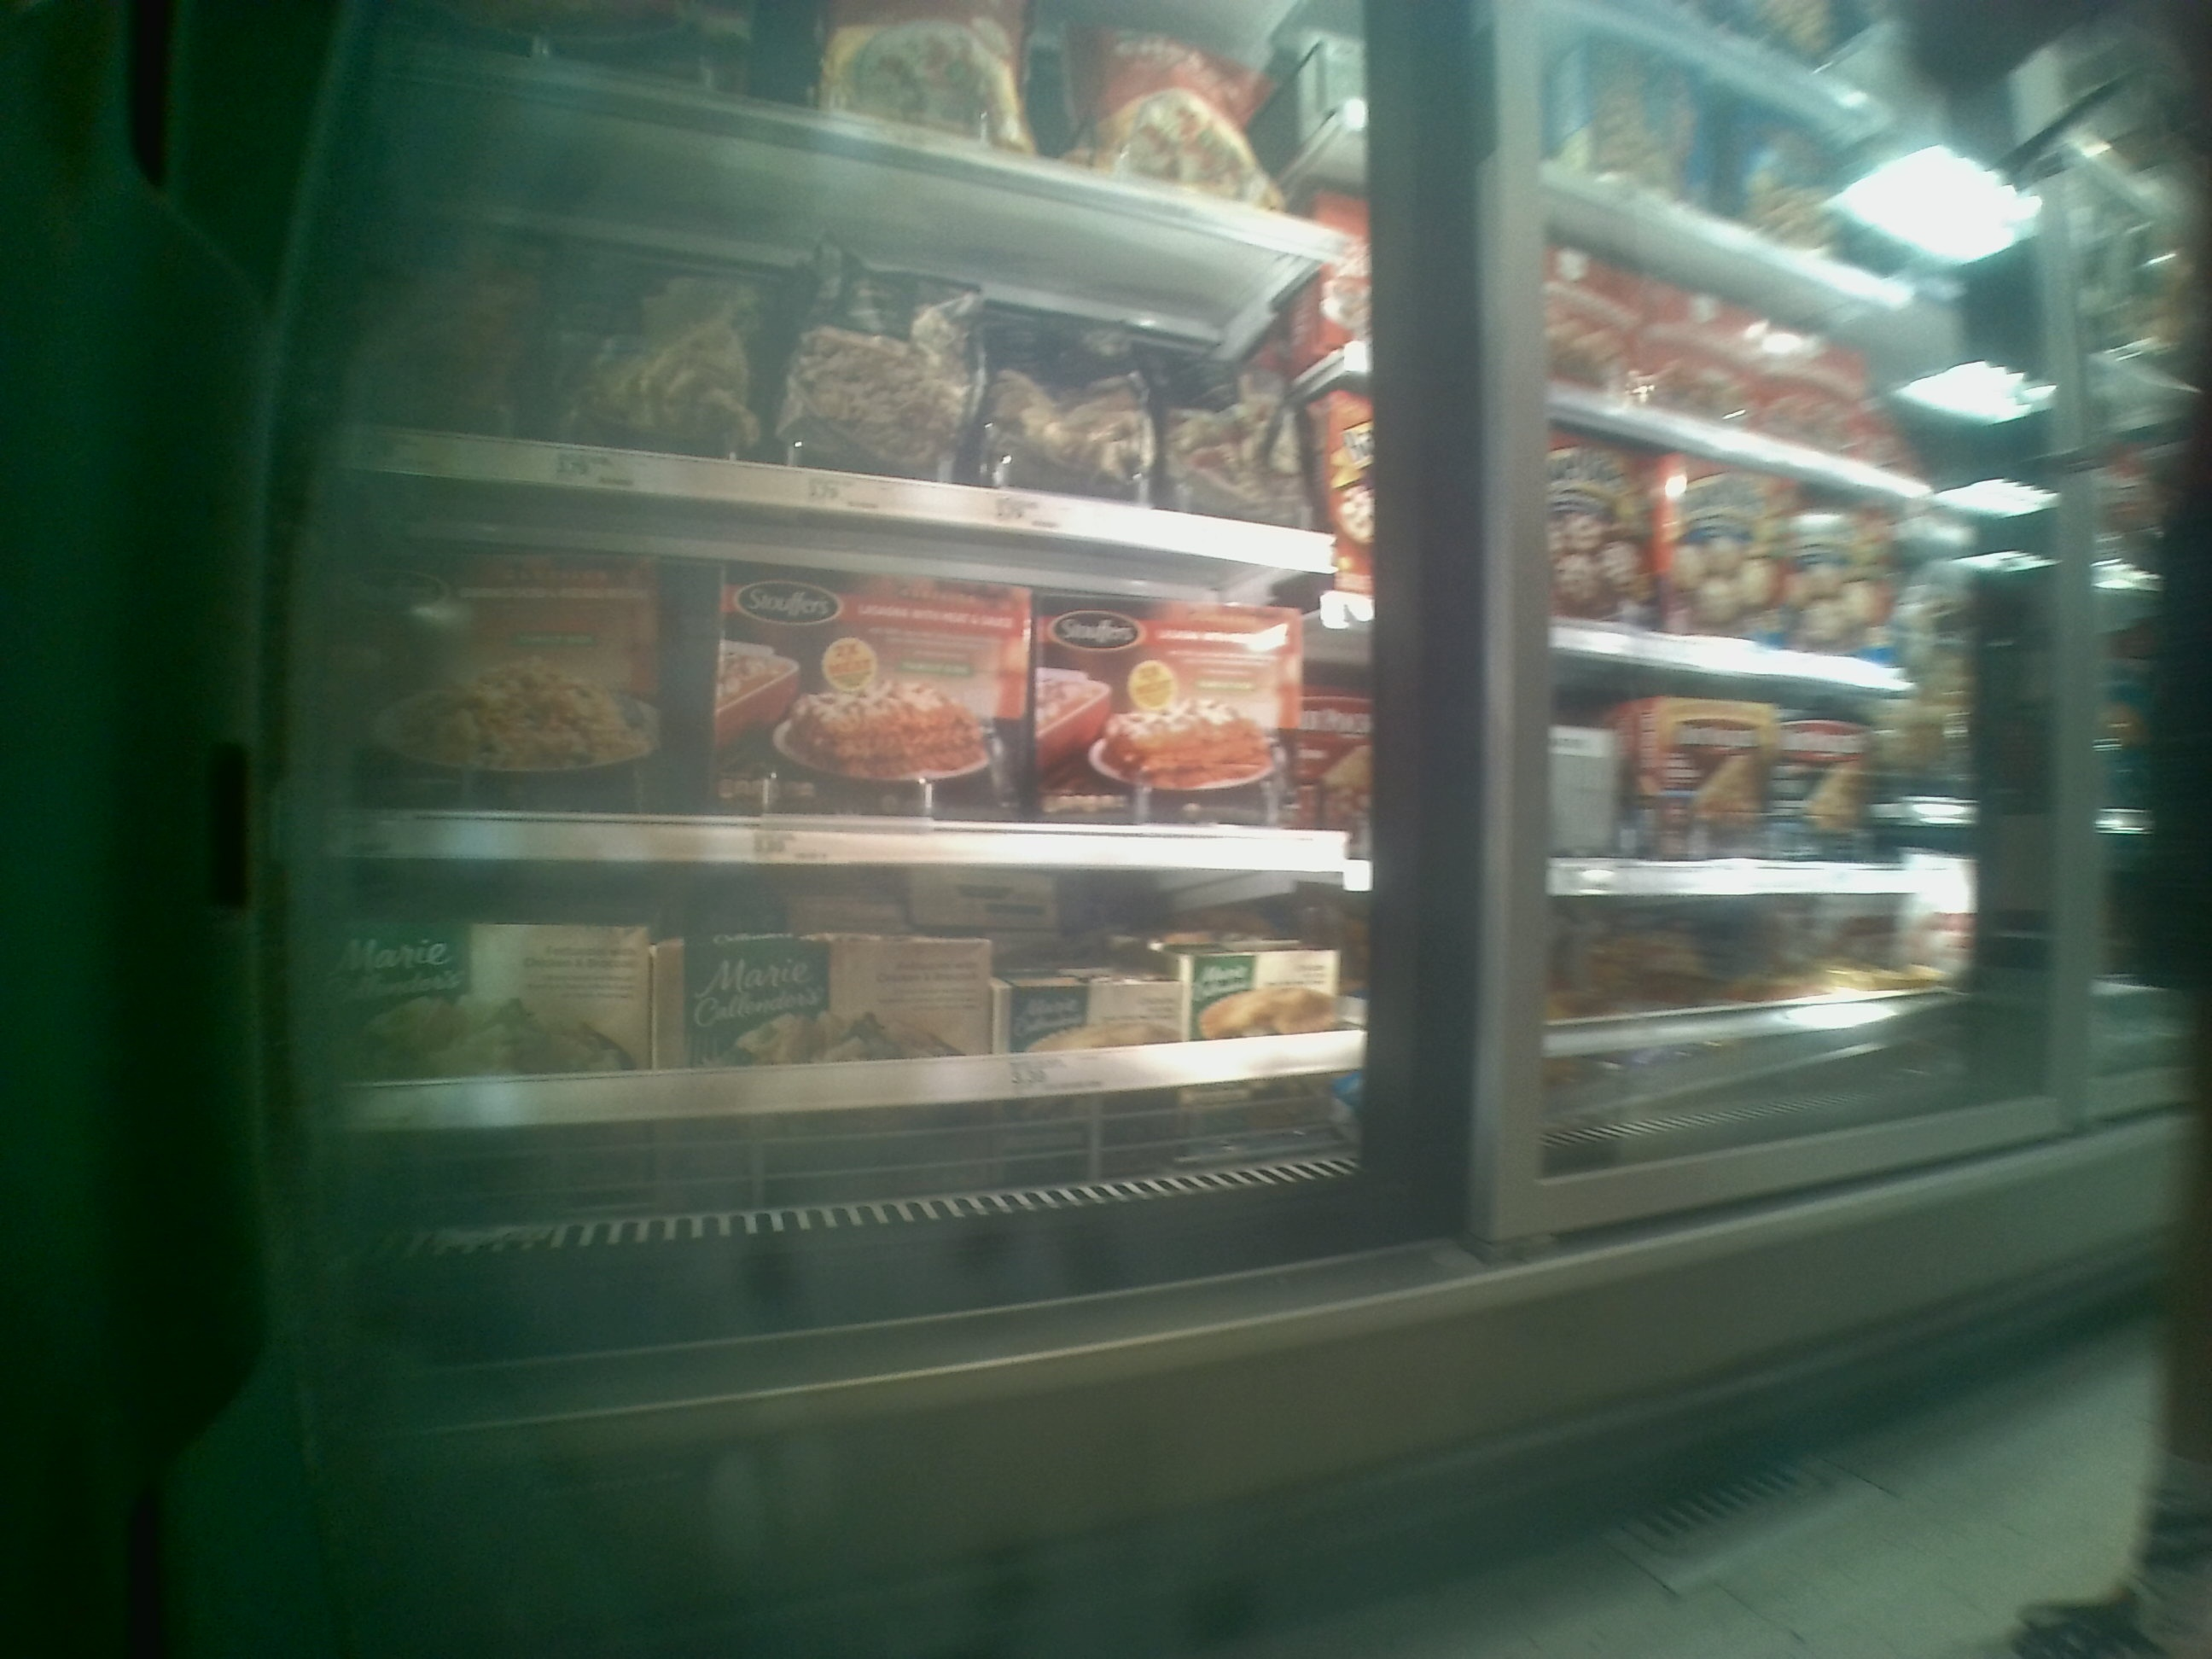shelf: (341, 849, 1367, 1194)
